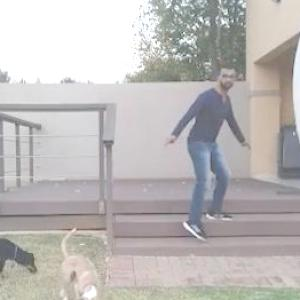land: (165, 60, 247, 245)
